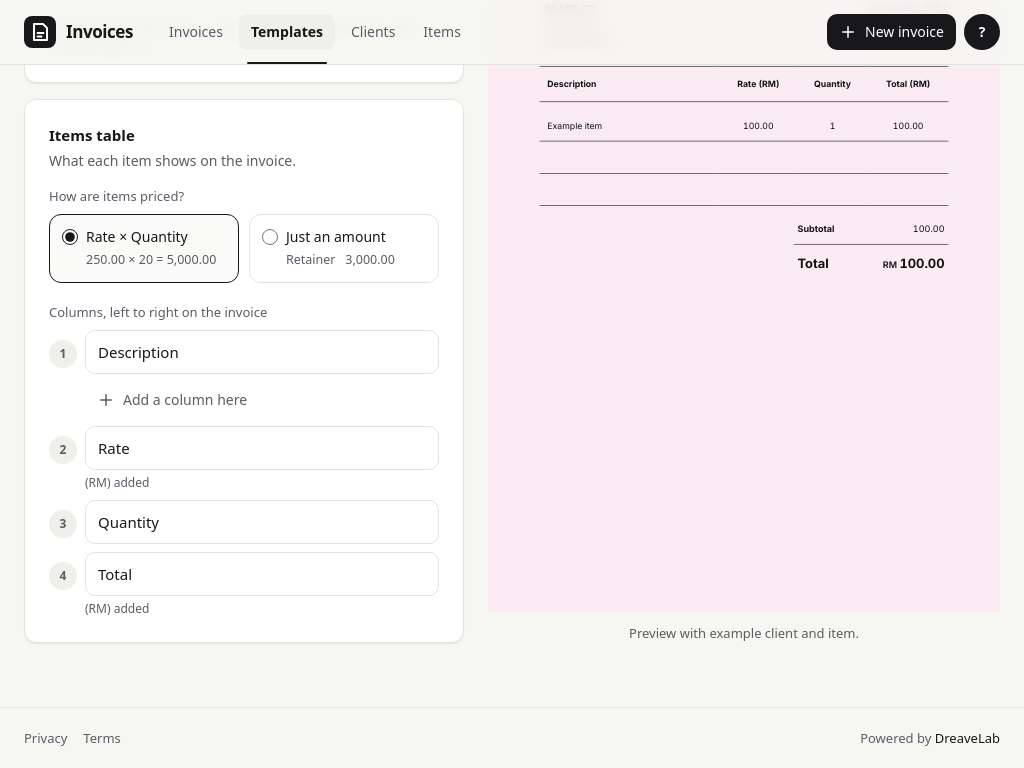
template editor › renames the column headings
The image size is (1024, 768).
(page scrolled)
Step 1. Replace the text in the 2nd field named "Rate column heading" with "Rate Per Session / Hour*" → coordinates (262, 448), box [85,426,439,470]
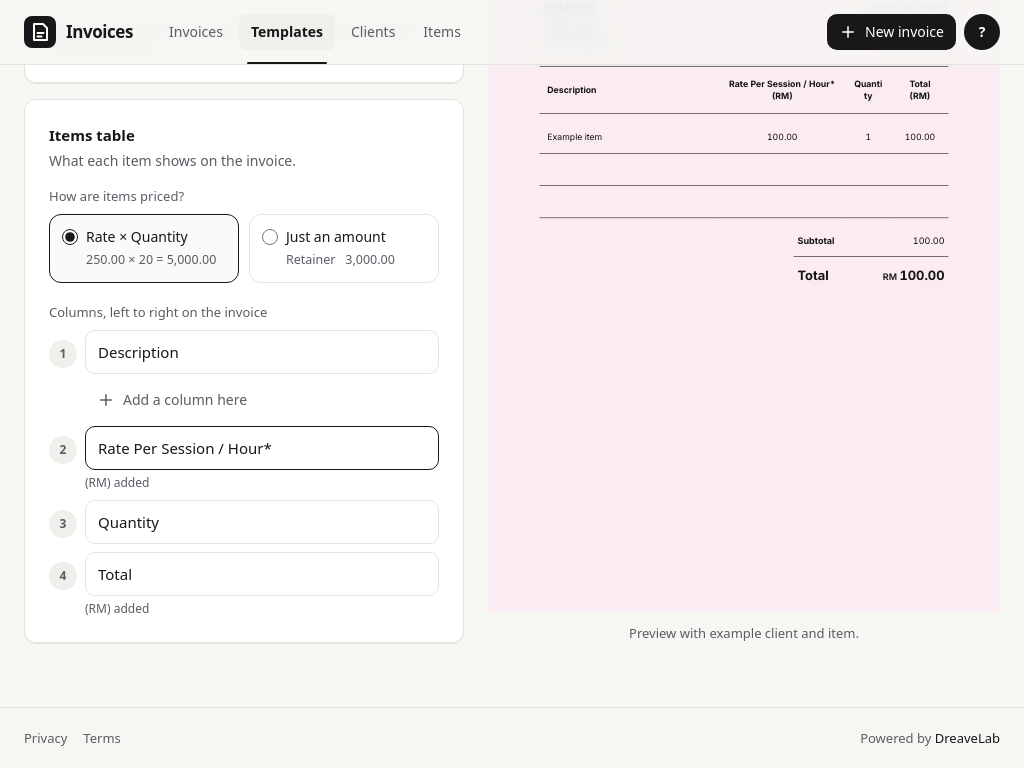
expect the column heading "Rate Per Session / Hour* (RM)" is shown: met, box [720,66,845,114]
